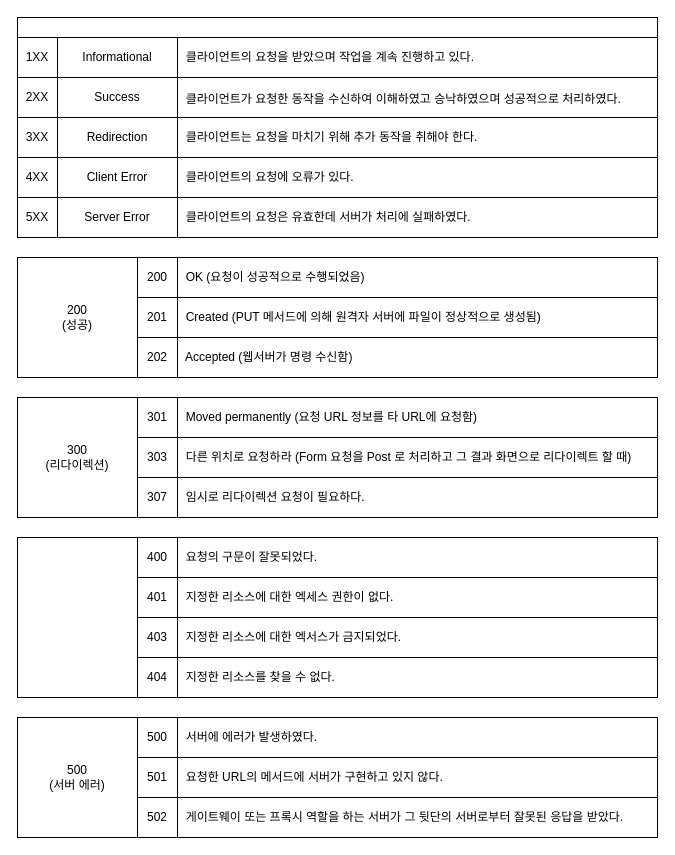
Image size: 675x855. Some labels were removed from this diagram. The centre of each missing label's shape, as x and y in pixels:
"400 (클라이언트 에러)" belongs at pixel 77 617.
"응답코드" belongs at pixel 337 27.
